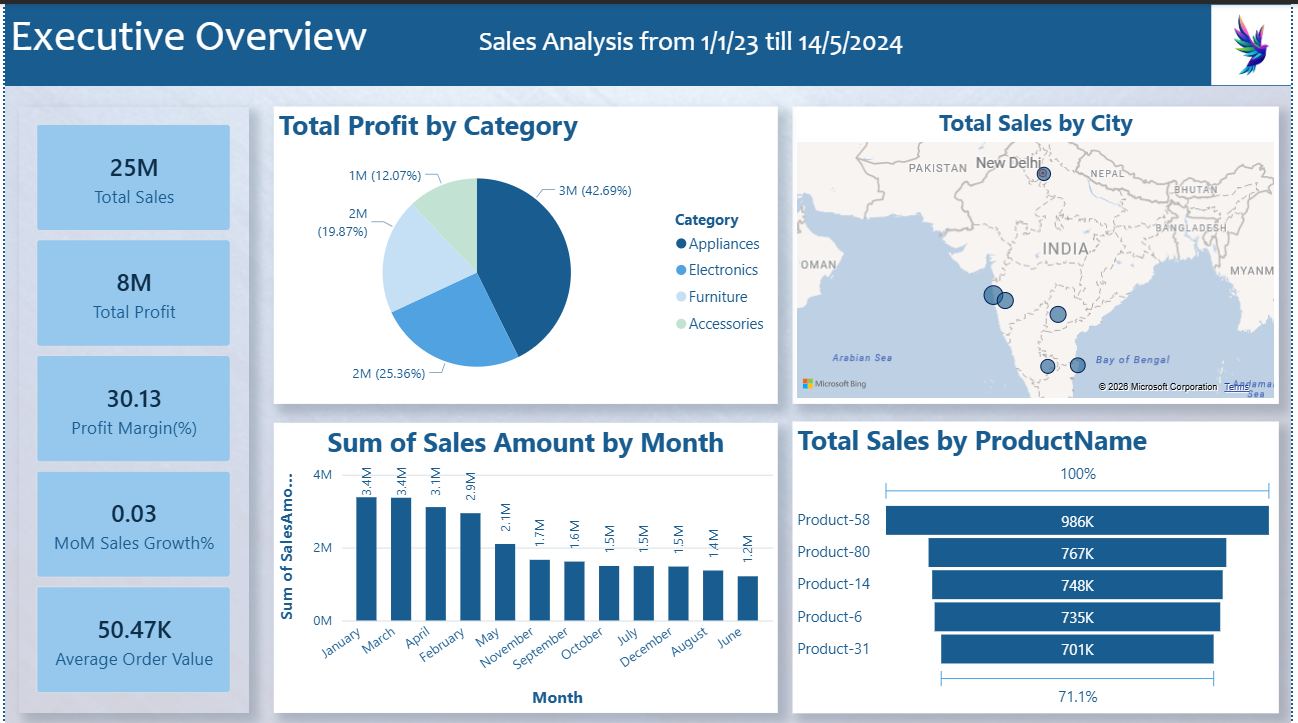

This screenshot's page, from the dashboard's own definition file:
{"tool":"powerbi","page":{"name":"Executive Overview","canvas":[1280,720],"ordinal":0},"visuals":[{"type":"cardVisual","fields":{"Data":["Fact_SalesTargets.Total Sales","Dim_Customer.Total Profit","Dim_Customer.Profit Margin(%)","Dim_Customer.YoY Sales Growth%","Dim_Customer.Average Order Value"]},"box":[14.3,101.4,228.6,604.3],"z":0},{"type":"textbox","box":[0,0,1280,81.7],"z":1000},{"type":"clusteredColumnChart","title":"Sum of Sales Amount by Month","fields":{"Y":["Sum(Fact_Sales.SalesAmount)"],"Category":["Dim_Date.Month"]},"box":[267.1,417.1,501.4,288.6],"z":2000},{"type":"map","fields":{"Size":["Fact_SalesTargets.Total Sales"],"Category":["Dim_Customer.City"]},"box":[784.3,101.4,484.3,295.7],"z":3000},{"type":"funnel","fields":{"Category":["Dim_Product.ProductName"],"Y":["Fact_SalesTargets.Total Sales"]},"box":[784.3,415.7,484.3,290],"z":4000},{"type":"pieChart","fields":{"Y":["Dim_Customer.Total Profit"],"Category":["Dim_Product.Category"]},"box":[267.1,101.4,501.4,295.7],"z":5000},{"type":"image","box":[1200,0,80,81.2],"z":6000}]}

Visuals, with their boxes in screenshot pixels (x1, y1, x2, y2), scaled from the page's 1280x720 canvas onto the 1298x723 screenshot:
cardVisual - Fact_SalesTargets.Total Sales x Dim_Customer.Total Profit: 15, 102, 246, 709
textbox: 0, 0, 1297, 82
"Sum of Sales Amount by Month" clusteredColumnChart: 271, 419, 779, 709
map - Fact_SalesTargets.Total Sales x Dim_Customer.City: 795, 102, 1286, 399
funnel - Dim_Product.ProductName x Fact_SalesTargets.Total Sales: 795, 417, 1286, 709
pieChart - Dim_Customer.Total Profit x Dim_Product.Category: 271, 102, 779, 399
image: 1217, 0, 1297, 82
